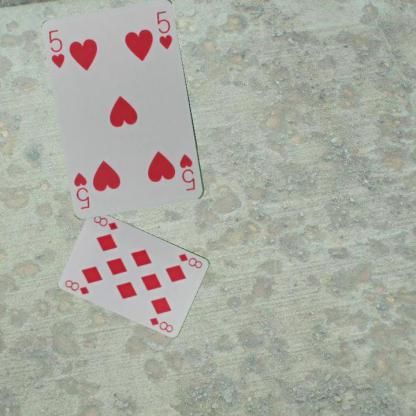5h: (46, 27, 66, 69), (177, 152, 197, 192)
8d: (62, 277, 91, 296), (176, 251, 204, 270)
